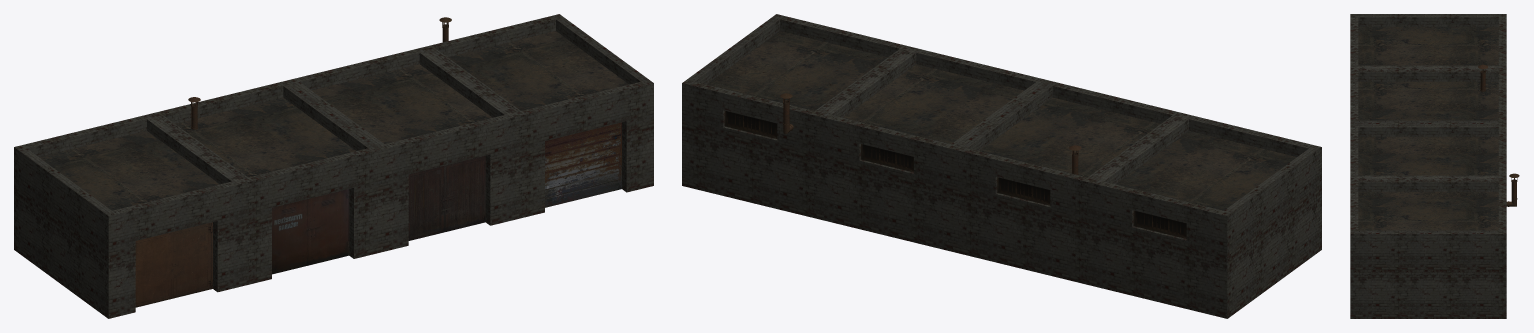
File: garages_block_hr_1.glb
3 renders of one model, left to right at view 1: azimuth 30°, elevation 25°; view 2: azimuth 150°, elevation 25°; view 3: azimuth 270°, elevation 25°, orthographic. The views are drawn at different scales.
Parts seen in each view (by area): view 1: garages_block_hr_1; view 2: garages_block_hr_1; view 3: garages_block_hr_1.
Boxes of the visible parts, x1,y1,x2,y2 form: garages_block_hr_1: [14, 14, 653, 318]; garages_block_hr_1: [682, 14, 1321, 318]; garages_block_hr_1: [1350, 14, 1519, 318].
Bounding box in the file's own units: 20 × 4.3 × 6.5.
Materials: 8 (8 with a texture image).
